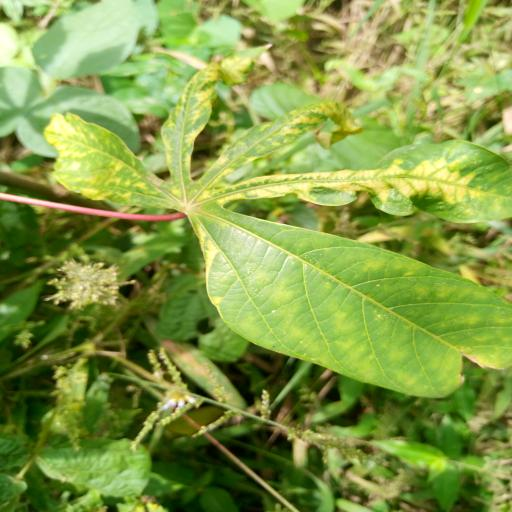Cassava_Mosaic: (45, 54, 512, 400)
